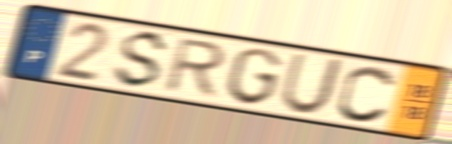2: (53, 21, 113, 84)
C: (335, 63, 400, 125)
G: (223, 46, 285, 108)
R: (159, 36, 230, 100)
S: (110, 29, 174, 92)
U: (277, 51, 347, 117)
